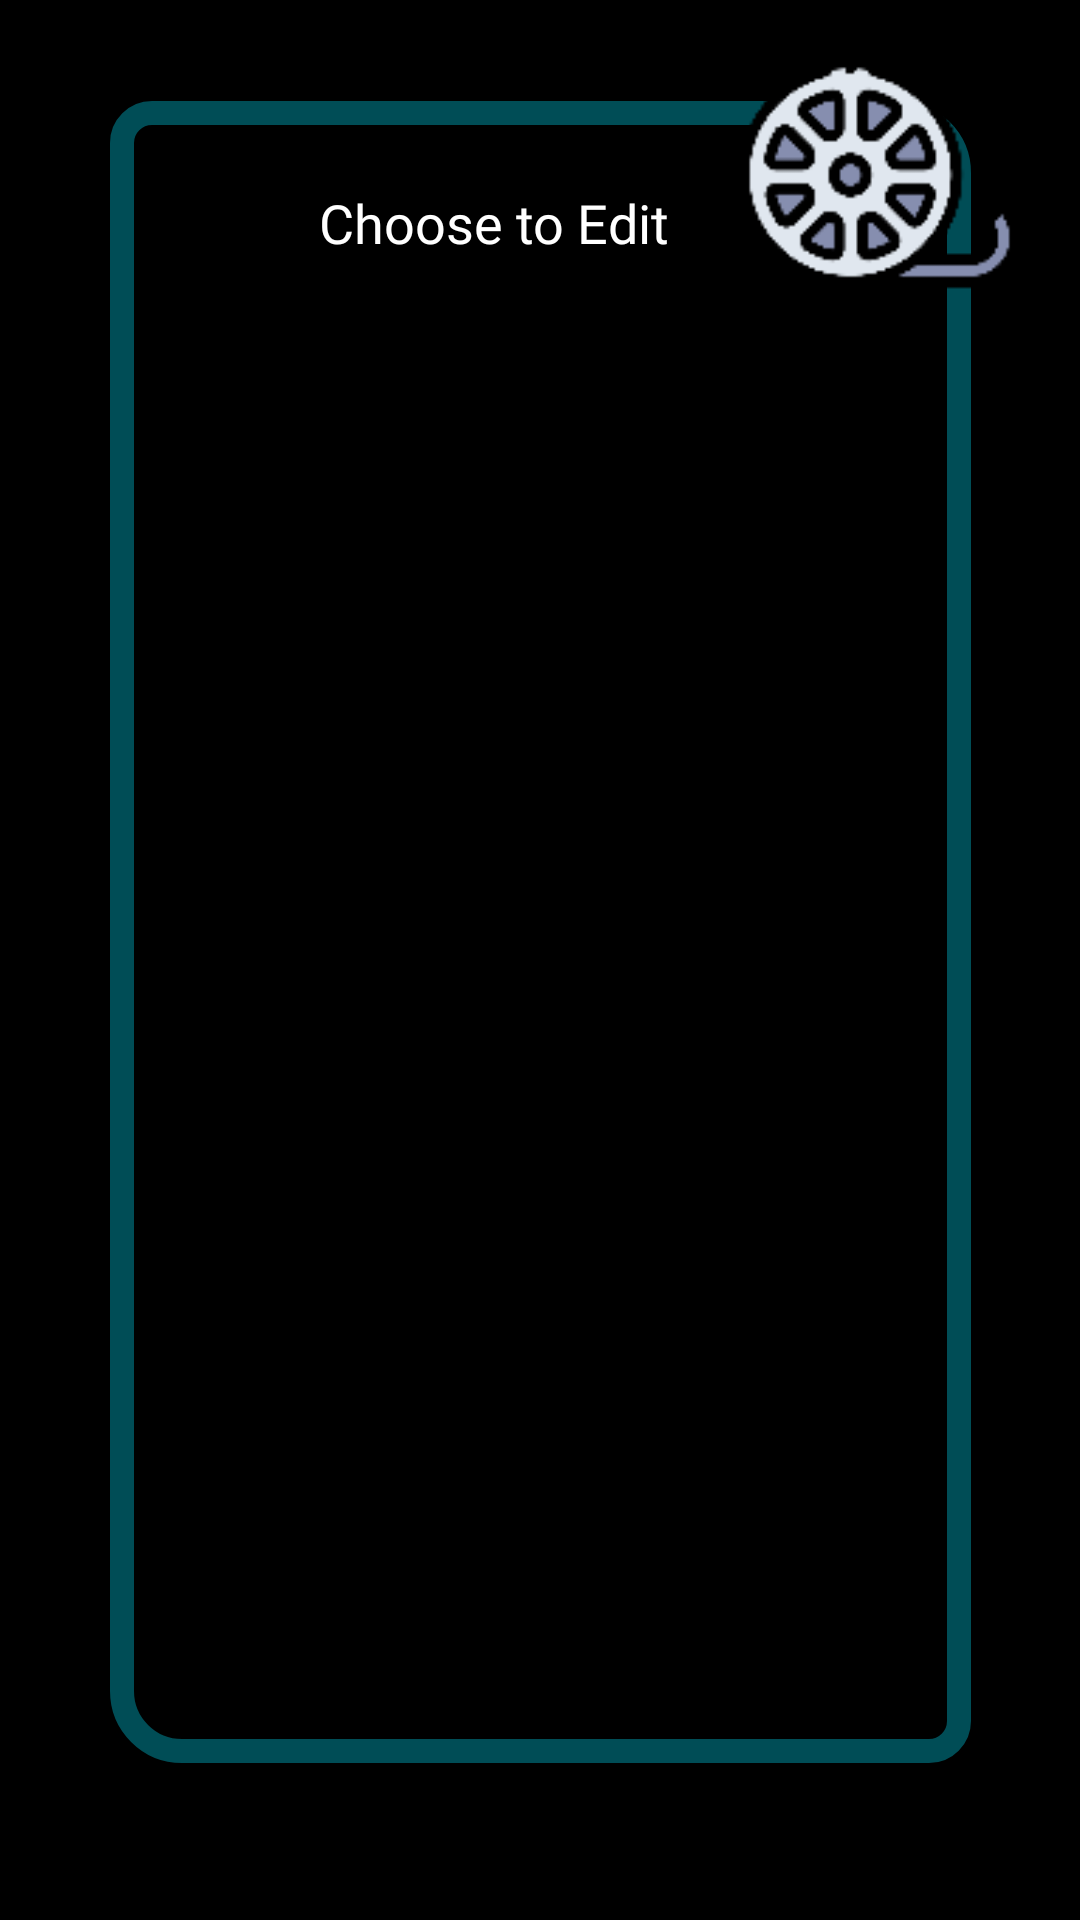

Screen size 1080*1920. Icon name, then its center in pixels as [x,y]:
editmov: [879,172]
